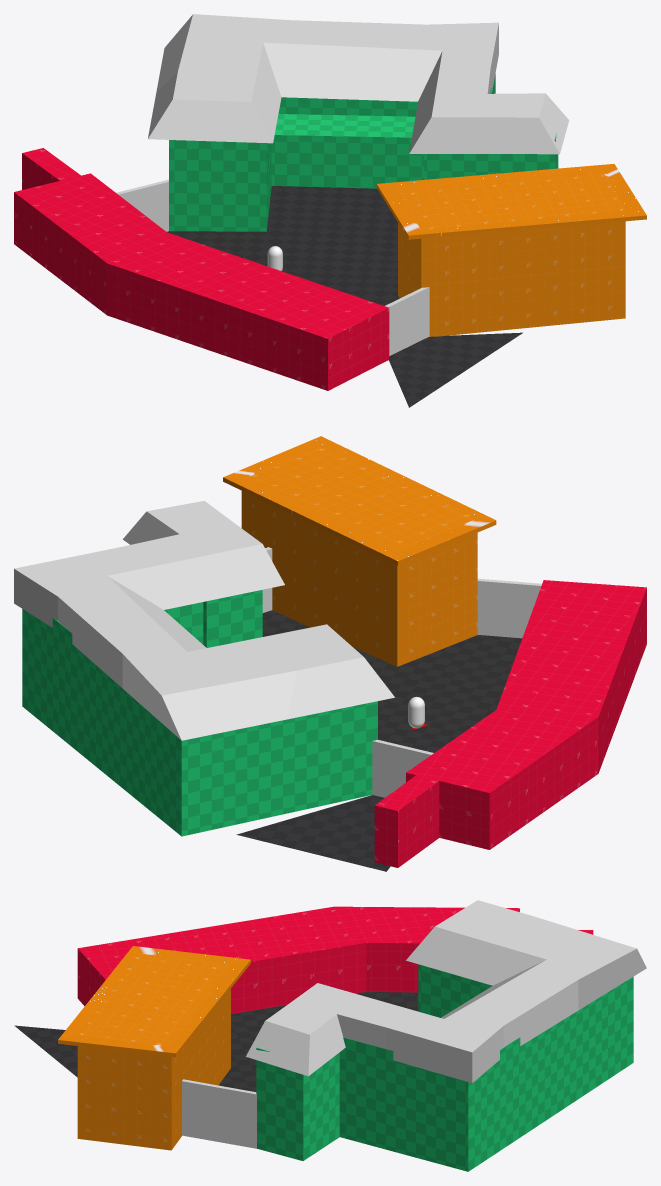
The model's file is Barracks.glb.
The picture shows the model from 3 angles, top to bottom: view 1: azimuth 30°, elevation 25°; view 2: azimuth 150°, elevation 25°; view 3: azimuth 270°, elevation 25°; orthographic projection. The views are drawn at different scales.
Visible parts, largest first — view 1: Cube, Building_3, Building_1, Building_2, Ground, Block.001, Block.002; view 2: Cube, Building_1, Building_2, Building_3, Ground, Block.001, Block.002; view 3: Building_2, Cube, Building_1, Building_3, Ground, Block.
Part boxes in pixels (left/top/right/bottom): Cube: left=148, top=14, right=569, bottom=154; Building_3: left=14, top=148, right=389, bottom=390; Building_1: left=376, top=164, right=646, bottom=336; Building_2: left=169, top=73, right=558, bottom=231; Ground: left=167, top=186, right=522, bottom=407; Block.001: left=385, top=287, right=429, bottom=355; Block.002: left=116, top=179, right=168, bottom=231; Cube: left=14, top=501, right=394, bottom=740; Building_1: left=223, top=436, right=496, bottom=666; Building_2: left=22, top=590, right=377, bottom=836; Building_3: left=374, top=580, right=646, bottom=867; Ground: left=236, top=610, right=522, bottom=871; Block.001: left=477, top=578, right=541, bottom=638; Block.002: left=372, top=740, right=433, bottom=797; Building_2: left=256, top=964, right=633, bottom=1171; Cube: left=246, top=900, right=646, bottom=1083; Building_1: left=58, top=946, right=250, bottom=1150; Building_3: left=77, top=906, right=593, bottom=1014; Ground: left=14, top=992, right=418, bottom=1091; Block: left=182, top=1079, right=256, bottom=1148.
Bounding box in the file's own units: 35.18 × 9.89 × 43.1.
Materials: 6 (4 with a texture image).
